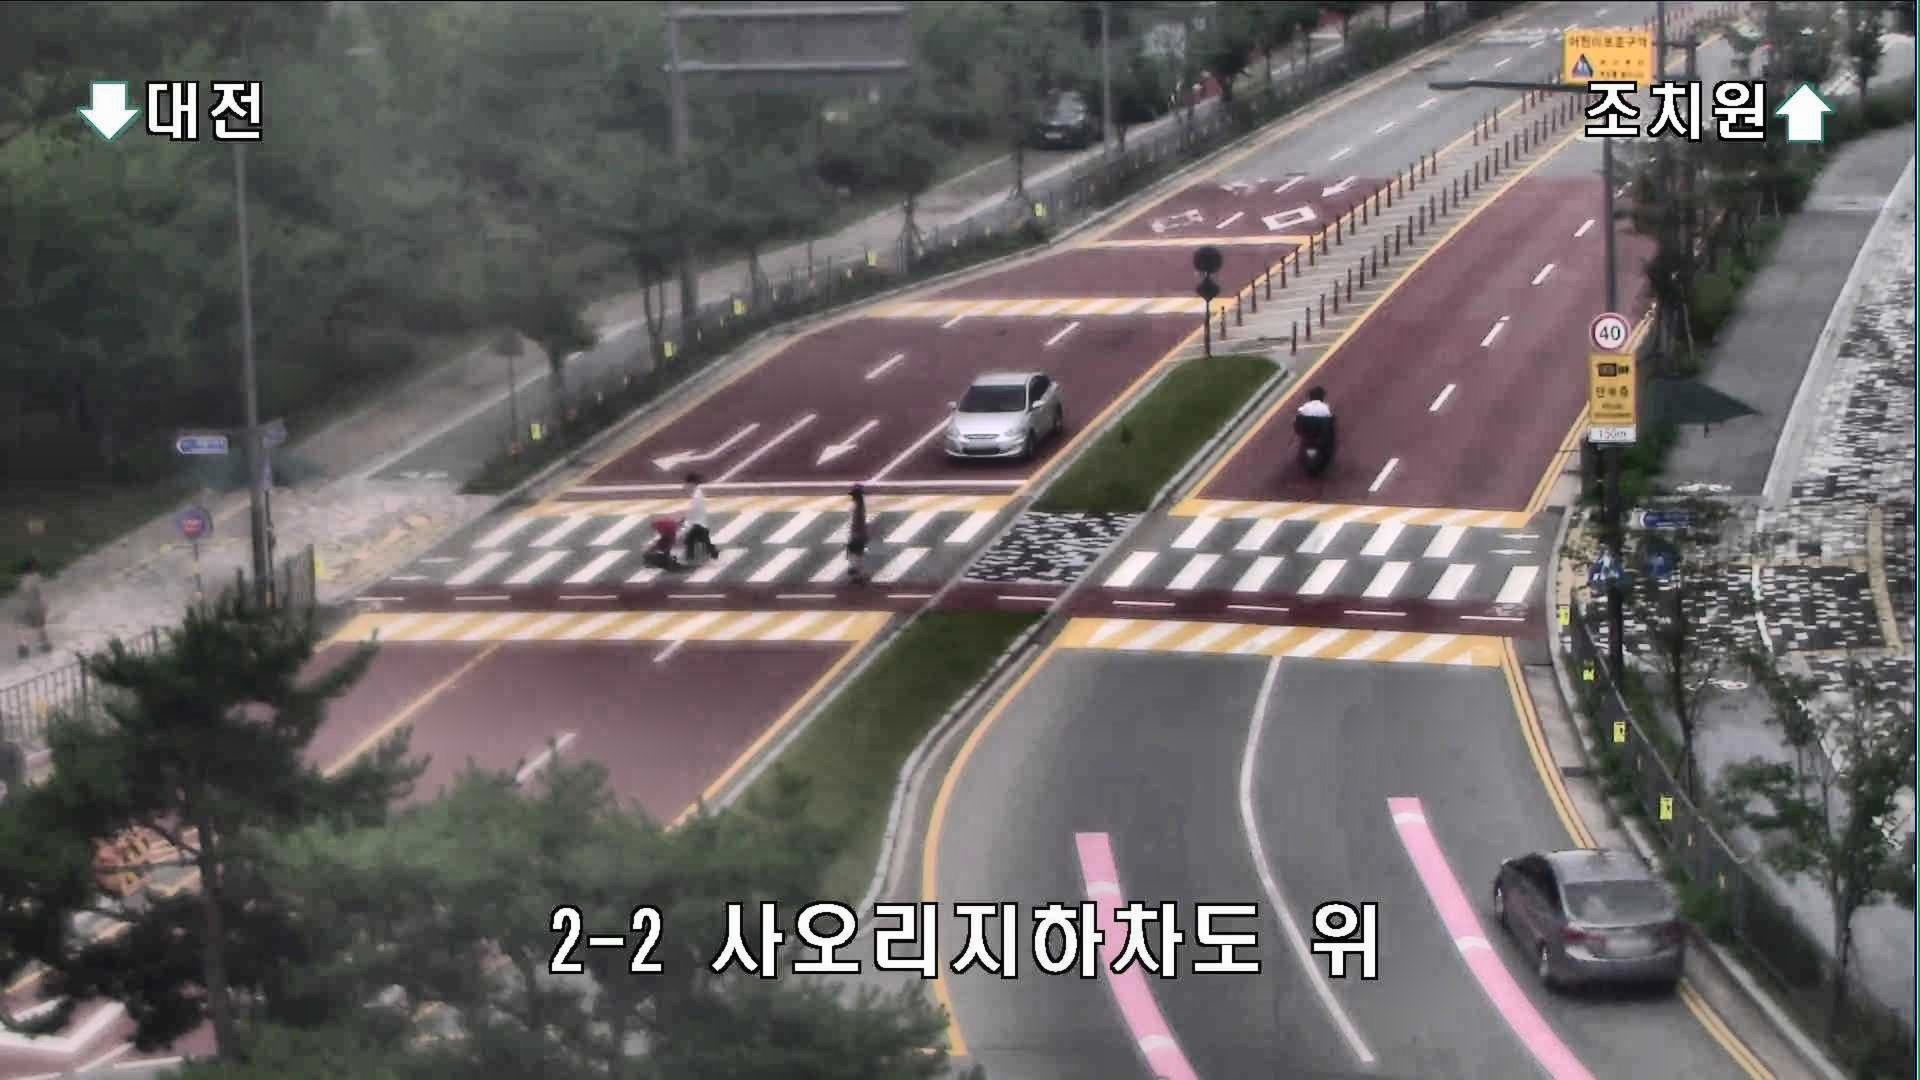crosswalk: (673, 473, 721, 570), (843, 485, 870, 582)
sidewalk: (11, 554, 54, 659)
